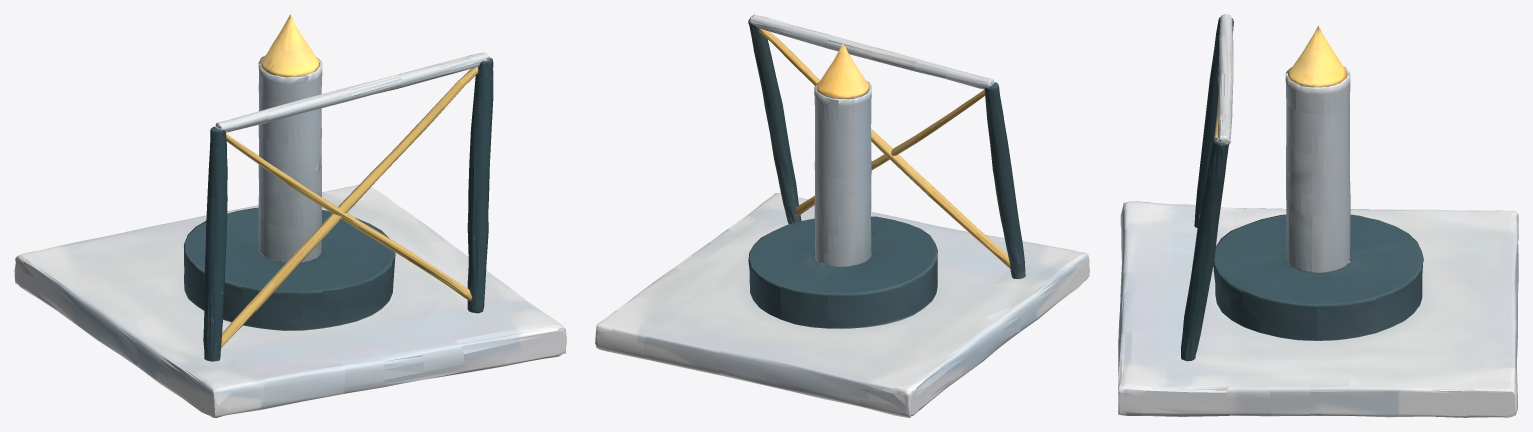
Rendered from launchpad.glb.
The picture shows the model from 3 angles, left to right: view 1: azimuth 30°, elevation 25°; view 2: azimuth 150°, elevation 25°; view 3: azimuth 270°, elevation 25°; orthographic projection. The views are drawn at different scales.
Size of the model in its own units: 1 by 0.8516 by 1.
Materials: 1 (1 with a texture image).
